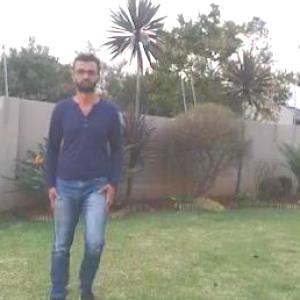follow: (35, 32, 130, 299)
